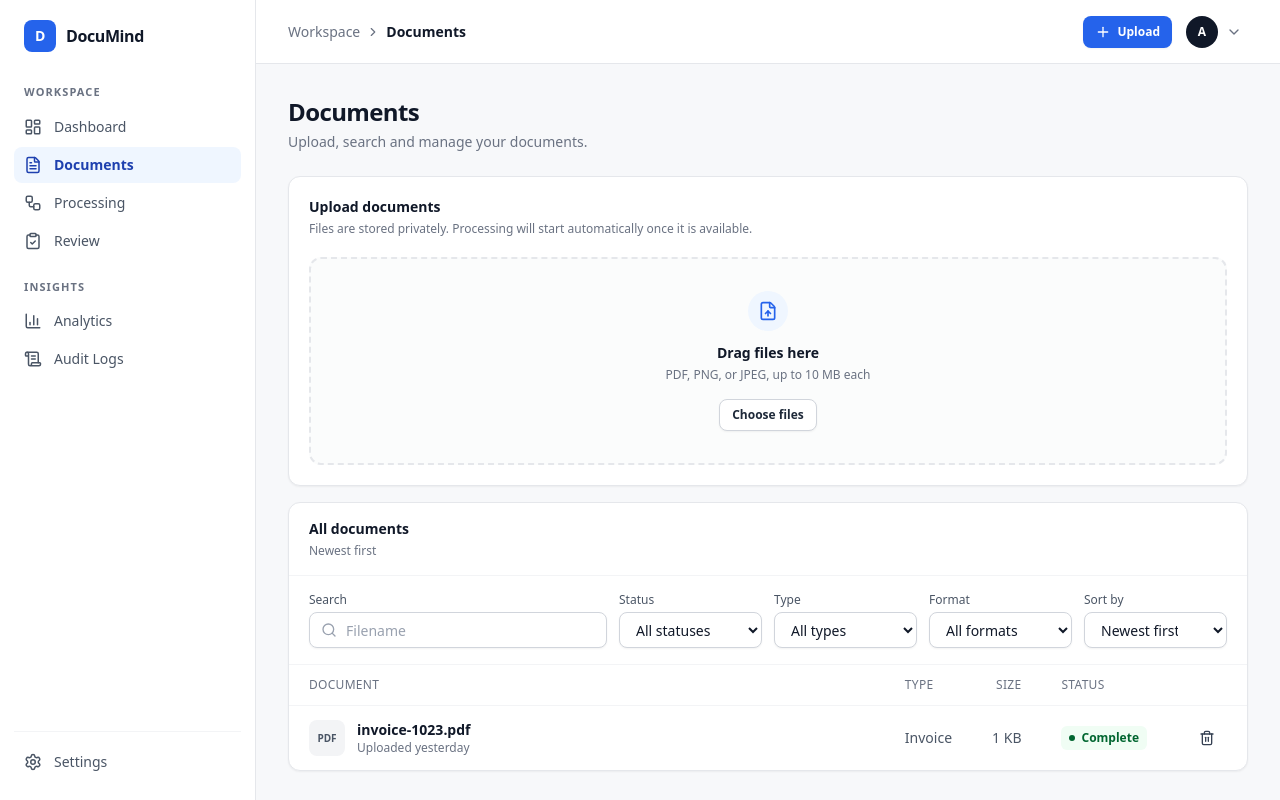
DocumentsPage › delete › reports a failed delete and keeps the row
Check: the heading "Documents" is shown, box [288,95,419,128]
Click the button named "Delete invoice-1023.pdf" at (1207, 738), box [1187,722,1227,754]
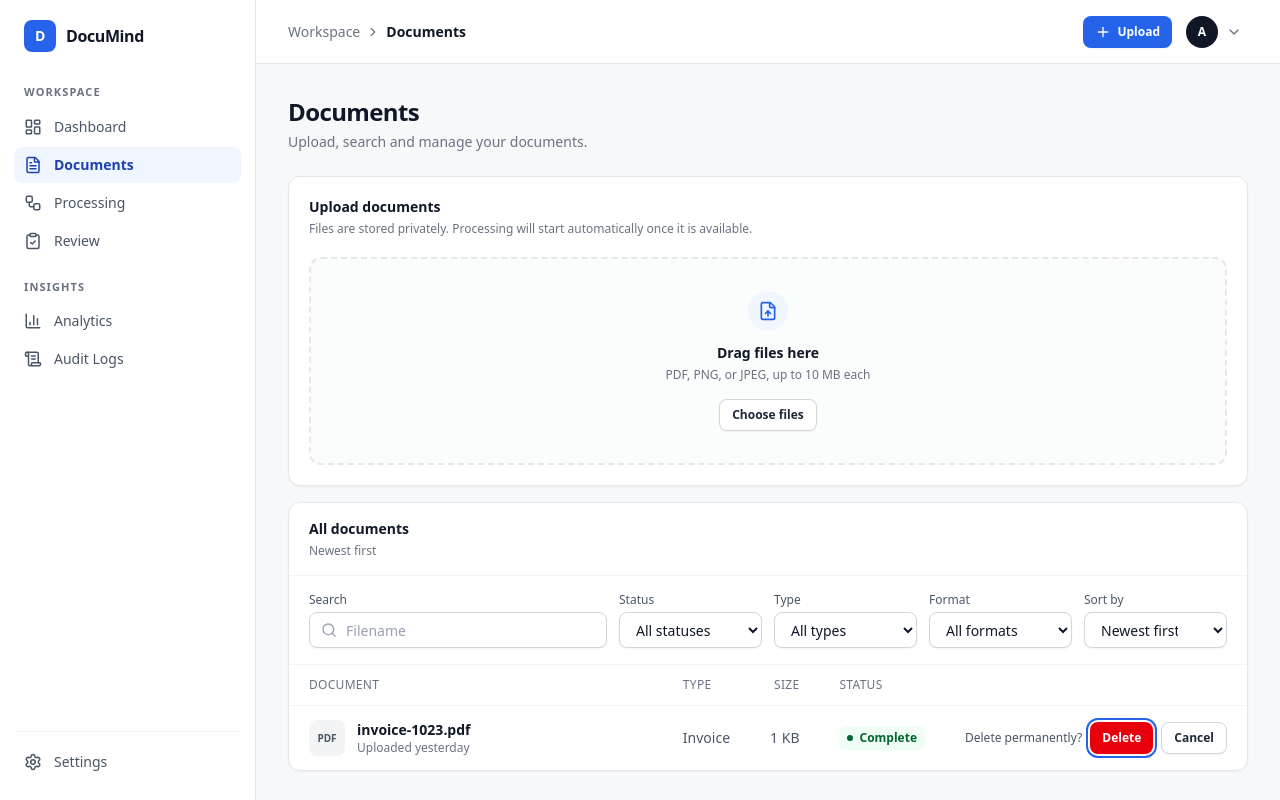
Click the button with aria-label "Confirm deleting invoice-1023.pdf" at (1122, 738), box [1090,722,1153,754]
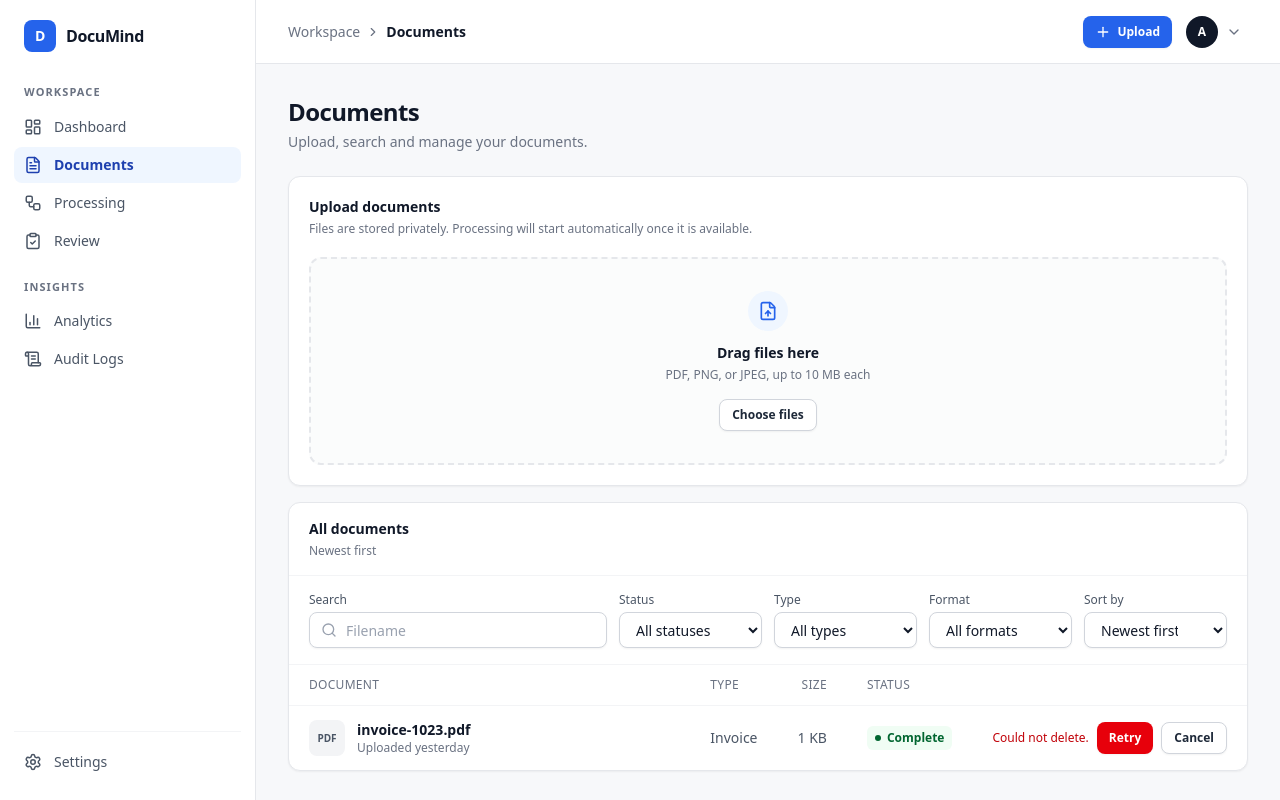
Check: the link "invoice-1023.pdf" is shown, box [357,720,470,740]
Check: the text "Could not delete." is shown, box [992,730,1089,746]
